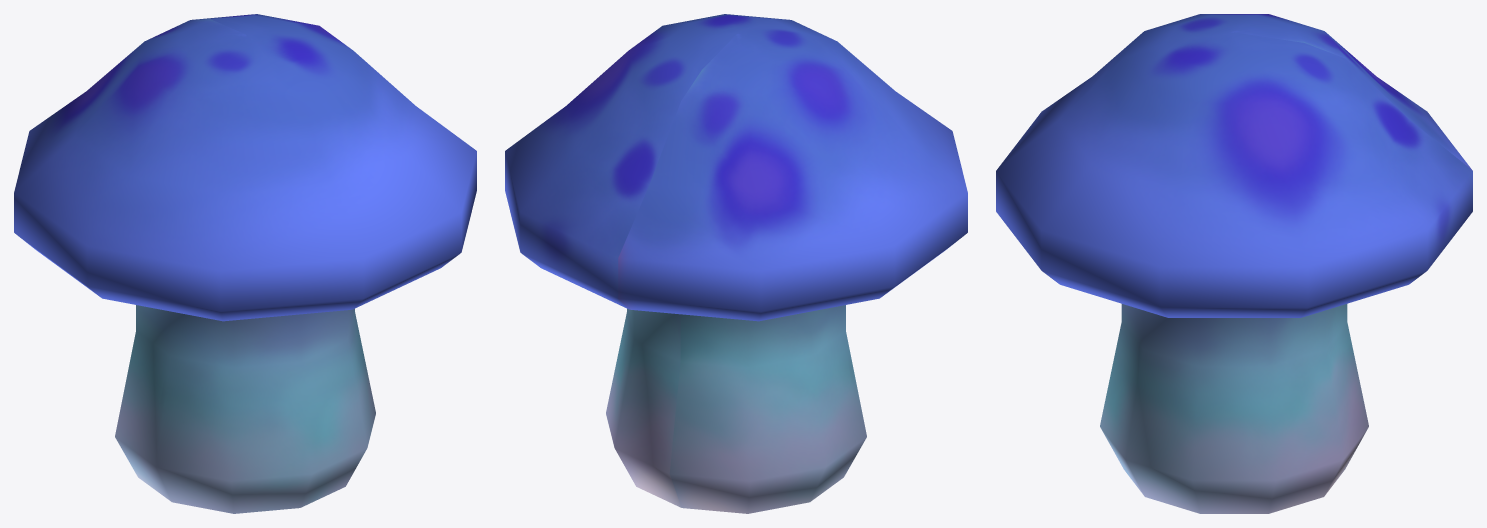
File: bullet-1.fbx
3 renders of one model, left to right at view 1: azimuth 30°, elevation 25°; view 2: azimuth 150°, elevation 25°; view 3: azimuth 270°, elevation 25°, orthographic.
Parts seen in each view (by area): view 1: bullet-1; view 2: bullet-1; view 3: bullet-1.
Part boxes in pixels (x1=…): bullet-1: x1=14, y1=14, x2=476, y2=513; bullet-1: x1=505, y1=14, x2=967, y2=513; bullet-1: x1=996, y1=14, x2=1472, y2=513.
Size of the model in its own units: 159 by 169 by 167.
1 material, 1 textured.
